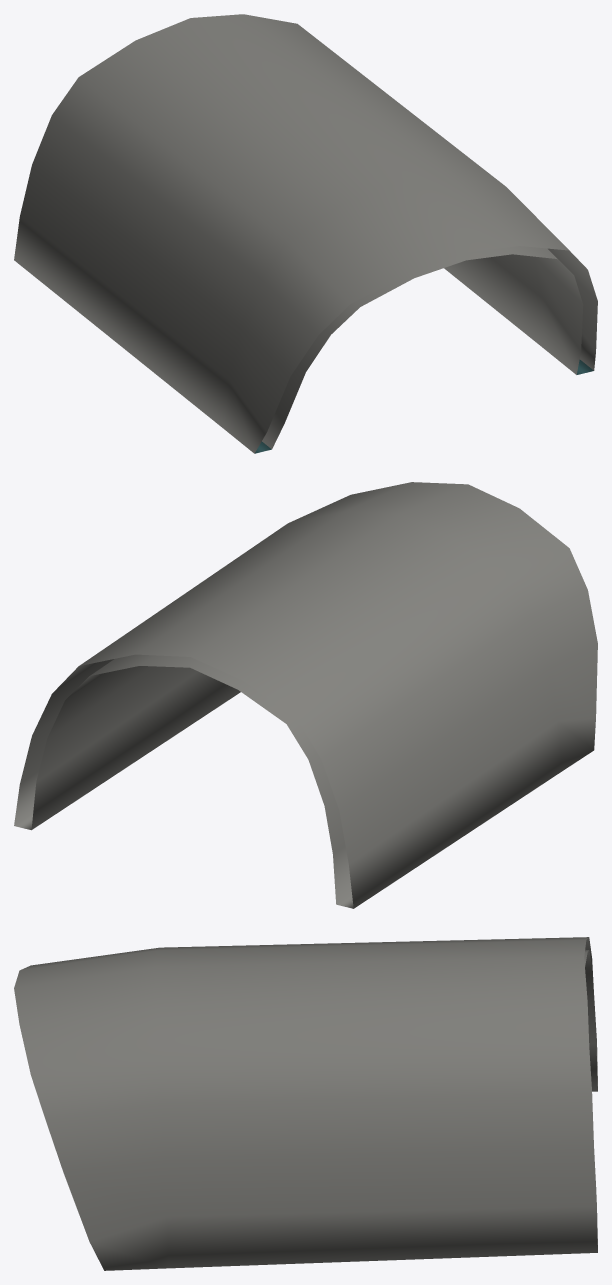
File: mig21newglass.fbx
The picture shows the model from 3 angles, top to bottom: view 1: azimuth 30°, elevation 25°; view 2: azimuth 150°, elevation 25°; view 3: azimuth 270°, elevation 25°; orthographic projection. The views are drawn at different scales.
Parts seen in each view (by area): view 1: canopyglassnew; view 2: canopyglassnew; view 3: canopyglassnew.
Boxes of the visible parts, x1,y1,x2,y2 form: canopyglassnew: (14, 14, 597, 453); canopyglassnew: (14, 482, 597, 908); canopyglassnew: (14, 937, 597, 1270).
Bounding box in the file's own units: 60.75 × 38.13 × 88.13.
